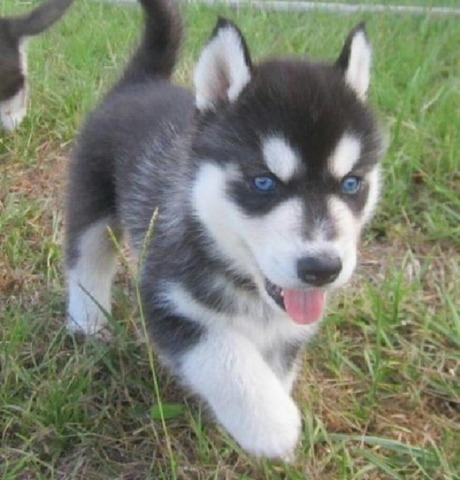husky: (48, 19, 404, 463)
